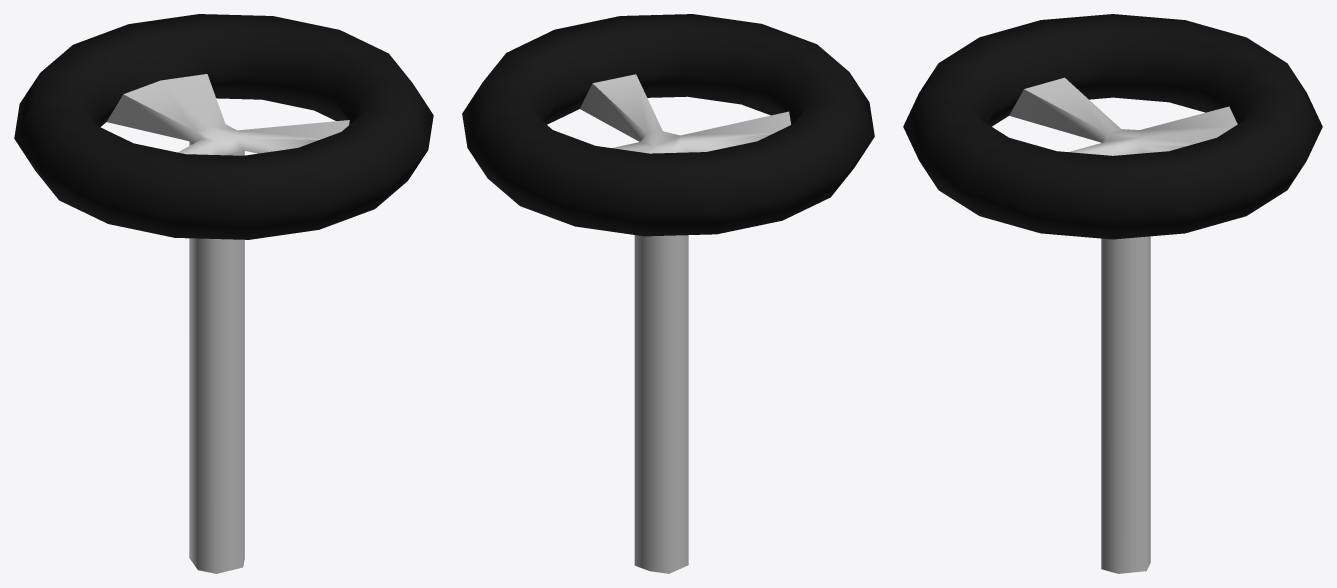
Rendered from kart_steering_wheel.obj.
The picture shows the model from 3 angles, left to right: view 1: azimuth 30°, elevation 25°; view 2: azimuth 150°, elevation 25°; view 3: azimuth 270°, elevation 25°; orthographic projection.
Parts seen in each view (by area): view 1: SteeringWheel.001; view 2: SteeringWheel.001; view 3: SteeringWheel.001.
Part boxes in pixels (box(x1,y1,x2,y2)): SteeringWheel.001: box(14, 14, 433, 573); SteeringWheel.001: box(462, 14, 874, 573); SteeringWheel.001: box(903, 14, 1322, 573).
Bounding box in the file's own units: 0.358 × 0.4413 × 0.358.
